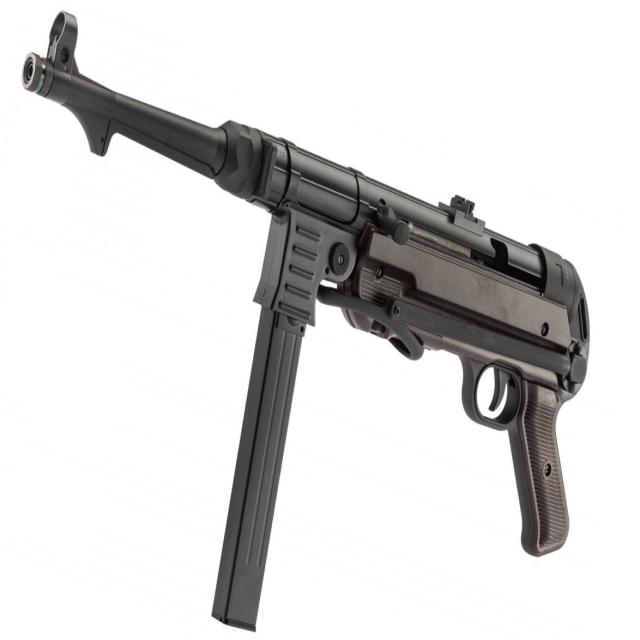SMG: (22, 11, 593, 634)
